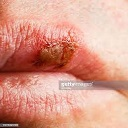Cold Sore: (37, 34, 76, 67)
